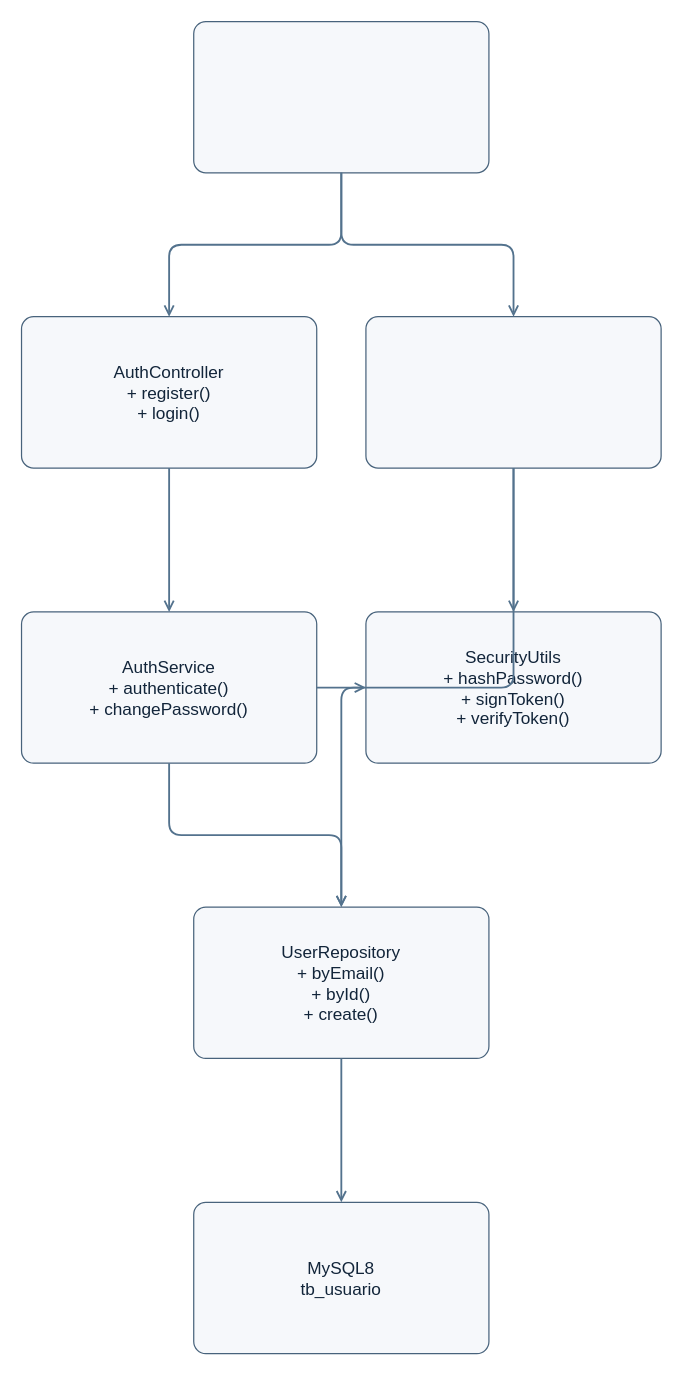
The diagram is 683 pixels wide and 1375 high, and some of its shapes have lost their labels. The centre of each missing label's shape, as x and y in pixels:
AuthMiddleware + requireAuth() + allowRoles(): point 513,391
AuthRoutes POST /register POST /login PATCH /password: point 340,96
